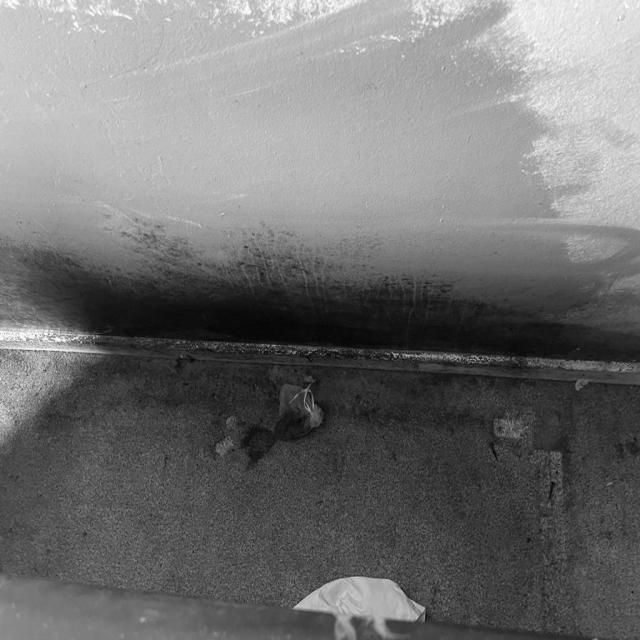stain marks: (0, 0, 640, 361)
